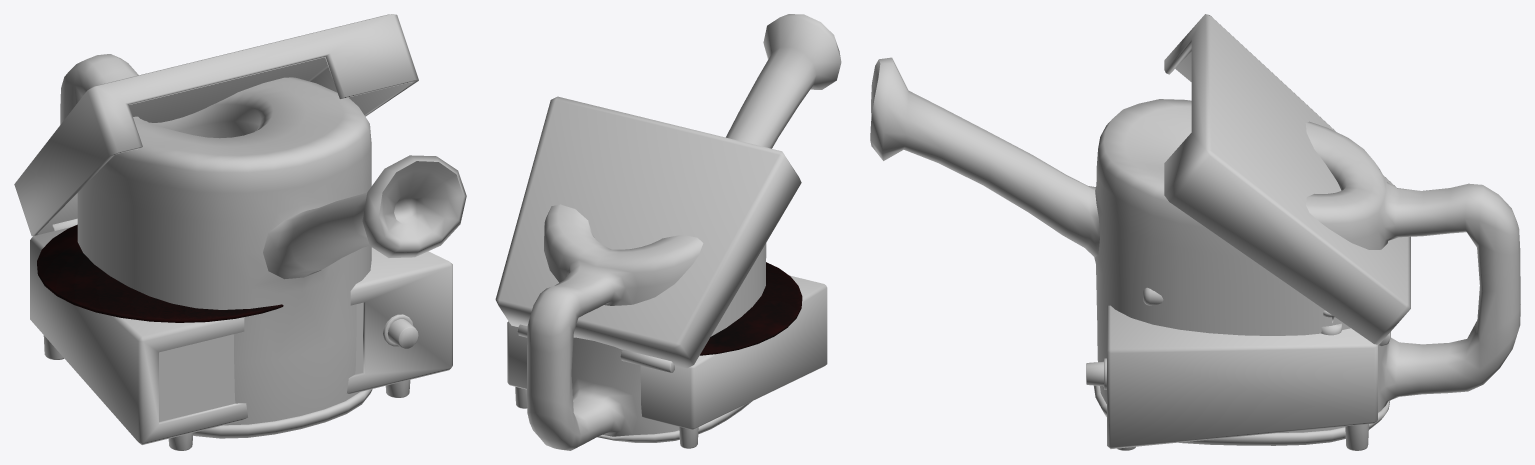
Rendered from Recordplayer_wateringcan.fbx.
3 views of the same model, side by side, from view 1: azimuth 30°, elevation 25°; view 2: azimuth 150°, elevation 25°; view 3: azimuth 270°, elevation 25° (orthographic). The views are drawn at different scales.
Parts seen in each view (by area): view 1: Watering can, Record player; view 2: Record player, Watering can; view 3: Watering can, Record player.
Boxes of the visible parts, box(x1,y1,x2,y2) form: Watering can: box(60, 54, 466, 438); Record player: box(14, 14, 452, 450); Record player: box(495, 96, 827, 448); Watering can: box(527, 14, 841, 450); Watering can: box(870, 57, 1520, 445); Record player: box(1086, 14, 1410, 450).
Size of the model in its own units: 63.19 by 66.33 by 116.
